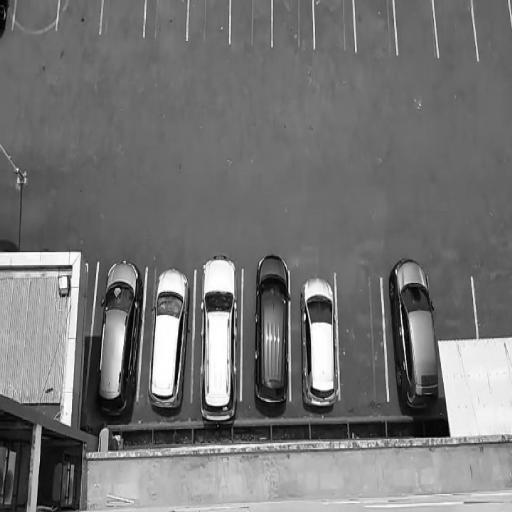Car: (385, 255, 438, 420), (197, 248, 241, 426), (98, 257, 142, 421), (144, 262, 190, 417), (252, 248, 293, 415), (298, 265, 340, 416)
Space Available: (338, 272, 386, 395), (432, 266, 472, 342), (476, 268, 510, 335), (475, 1, 512, 58), (436, 0, 472, 55), (356, 1, 394, 51), (231, 0, 270, 46), (315, 1, 352, 49), (396, 2, 431, 52), (274, 1, 312, 45), (191, 0, 228, 44), (146, 2, 186, 40), (104, 0, 142, 34), (60, 0, 99, 33), (18, 0, 54, 31)
